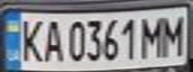0: (63, 17, 87, 62)
1: (118, 15, 142, 61)
3: (84, 17, 106, 63)
6: (103, 16, 124, 62)
A: (39, 17, 66, 63)
K: (15, 16, 45, 64)
M: (160, 11, 190, 57), (139, 14, 166, 58)
